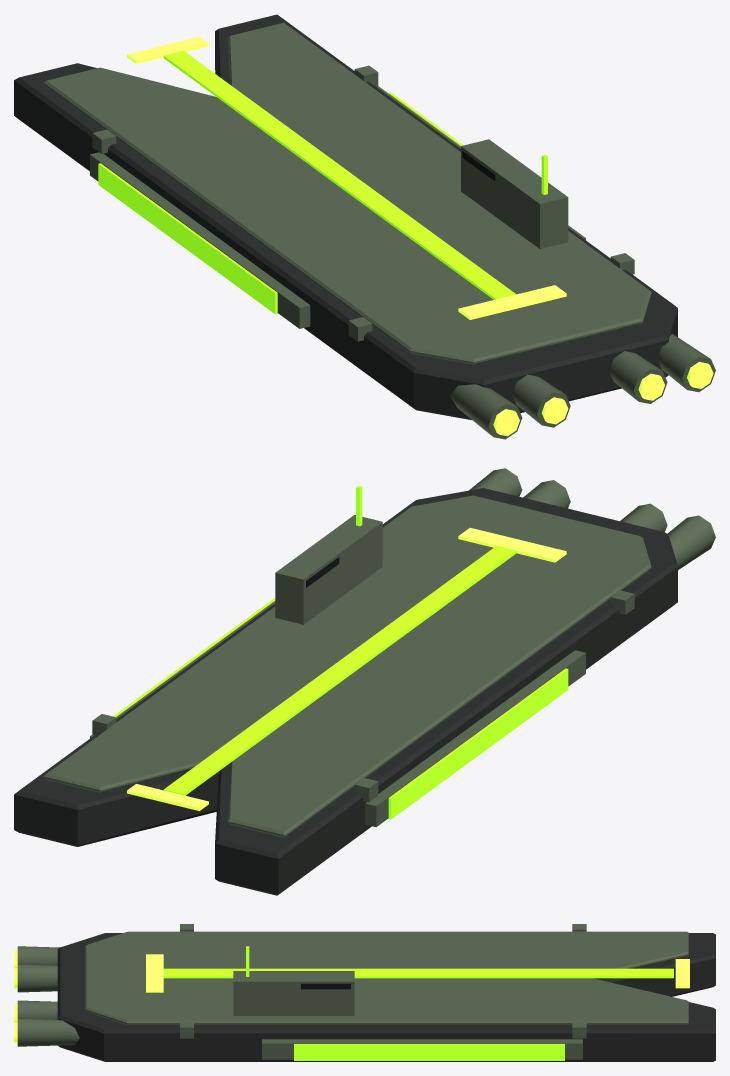
The model's file is Carrier.glb.
3 renders of one model, top to bottom at view 1: azimuth 30°, elevation 25°; view 2: azimuth 150°, elevation 25°; view 3: azimuth 270°, elevation 25°, orthographic. The views are drawn at different scales.
Visible parts, largest first — view 1: carrier_deck, carrier_hull, carrier_deckline, carrier_island, carrier_hangar, carrier_engine_o_nacelle (×2), carrier_sponson, carrier_engine_i_nacelle (×2), carrier_baylight, carrier_bowlight; view 2: carrier_deck, carrier_hull, carrier_deckline, carrier_island, carrier_hangar, carrier_sponson, carrier_engine_o_nacelle (×2), carrier_engine_i_nacelle (×2), carrier_baylight, carrier_bowlight; view 3: carrier_deck, carrier_hull, carrier_island, carrier_deckline, carrier_hangar, carrier_sponson, carrier_engine_o_nacelle (×2), carrier_engine_i_nacelle (×2), carrier_baylight, carrier_bowlight, carrier_islandglass, carrier_rib.
Part boxes in pixels (left/top/right/bottom): carrier_deck: left=43, top=22, right=651, bottom=364; carrier_hull: left=14, top=14, right=677, bottom=419; carrier_deckline: left=163, top=51, right=516, bottom=299; carrier_island: left=461, top=139, right=568, bottom=248; carrier_hangar: left=98, top=163, right=277, bottom=314; carrier_engine_o_nacelle (×2): left=450, top=333, right=715, bottom=439; carrier_sponson: left=90, top=152, right=310, bottom=328; carrier_engine_i_nacelle (×2): left=512, top=351, right=667, bottom=427; carrier_baylight: left=458, top=285, right=566, bottom=319; carrier_bowlight: left=127, top=36, right=208, bottom=63; carrier_deck: left=43, top=495, right=651, bottom=837; carrier_hull: left=14, top=488, right=677, bottom=895; carrier_deckline: left=163, top=546, right=516, bottom=795; carrier_island: left=275, top=515, right=382, bottom=624; carrier_hangar: left=388, top=668, right=568, bottom=819; carrier_sponson: left=365, top=650, right=585, bottom=827; carrier_engine_o_nacelle (×2): left=469, top=468, right=715, bottom=569; carrier_engine_i_nacelle (×2): left=523, top=480, right=667, bottom=531; carrier_baylight: left=458, top=527, right=566, bottom=562; carrier_bowlight: left=127, top=784, right=208, bottom=810; carrier_deck: left=84, top=931, right=688, bottom=1024; carrier_hull: left=57, top=933, right=715, bottom=1061; carrier_island: left=233, top=971, right=354, bottom=1015; carrier_deckline: left=163, top=968, right=673, bottom=978; carrier_hangar: left=294, top=1044, right=564, bottom=1060; carrier_sponson: left=262, top=1039, right=582, bottom=1059; carrier_engine_o_nacelle (×2): left=17, top=946, right=79, bottom=1046; carrier_engine_i_nacelle (×2): left=17, top=964, right=57, bottom=1019; carrier_baylight: left=146, top=954, right=163, bottom=992; carrier_bowlight: left=675, top=959, right=689, bottom=988; carrier_islandglass: left=301, top=983, right=350, bottom=989; carrier_rib: left=572, top=1022, right=586, bottom=1038.
Size of the model in its own units: 79.34 by 34.21 by 215.
